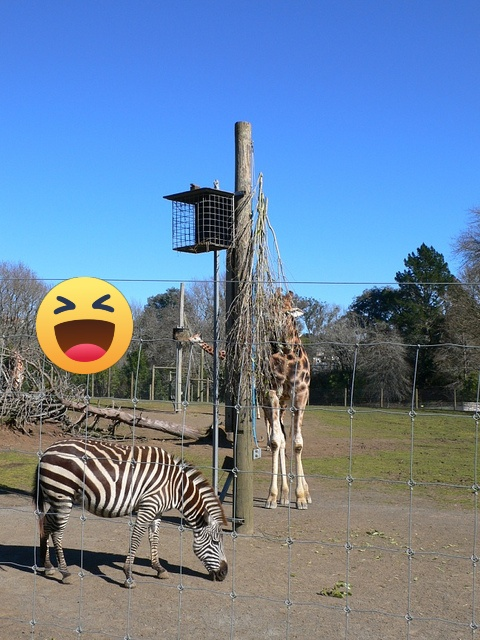haha: (36, 277, 133, 374)
